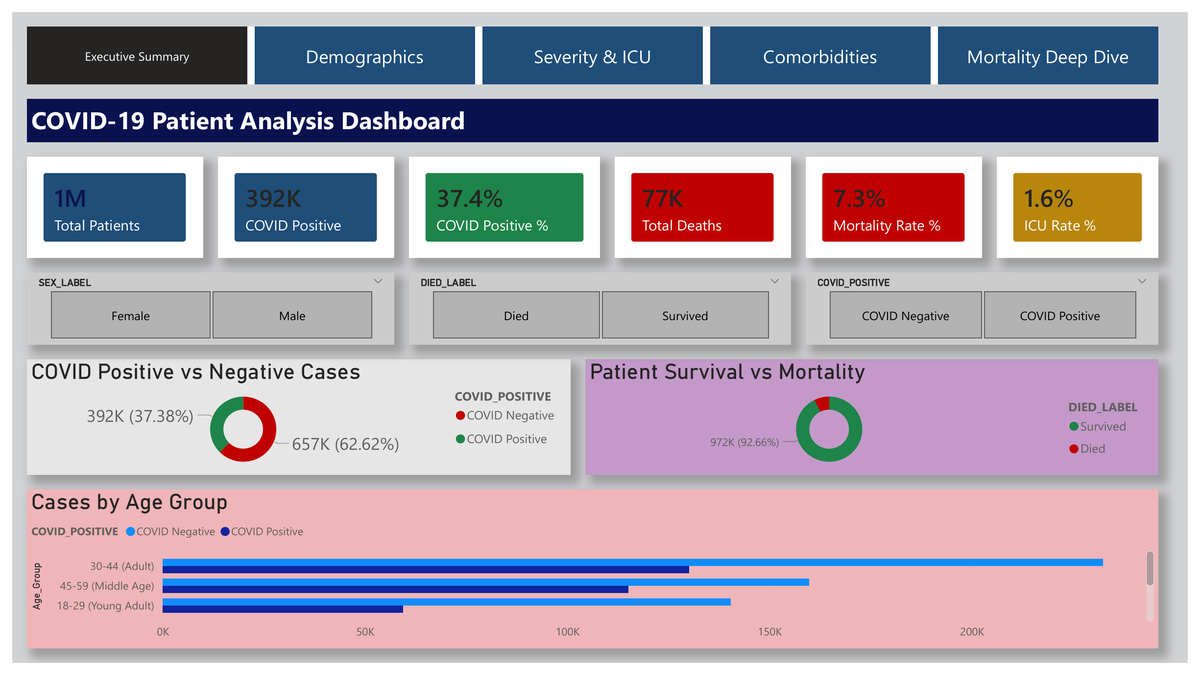

What the dashboard file says about the page in this screenshot:
{"tool":"powerbi","page":{"name":"Executive Summary","canvas":[1280,720],"ordinal":0},"visuals":[{"type":"textbox","box":[16,96,1232,48],"z":0},{"type":"cardVisual","fields":{"Data":["_Measures.Total Patients"]},"box":[16,160,192,112],"z":1000},{"type":"cardVisual","fields":{"Data":["_Measures.COVID Positive"]},"box":[224,160,192,112],"z":2000},{"type":"cardVisual","fields":{"Data":["_Measures.COVID Positive %"]},"box":[432,160,208,112],"z":3000},{"type":"cardVisual","fields":{"Data":["_Measures.ICU Rate %"]},"box":[1072,160,176,112],"z":4000},{"type":"cardVisual","fields":{"Data":["_Measures.Mortality Rate %"]},"box":[864,160,192,112],"z":5000},{"type":"cardVisual","fields":{"Data":["_Measures.Total Deaths"]},"box":[656,160,192,112],"z":6000},{"type":"donutChart","title":"COVID Positive vs Negative Cases","fields":{"Y":["_Measures.Total Patients"],"Category":["Covid Data.COVID_POSITIVE"]},"box":[16,384,592,128],"z":7000},{"type":"donutChart","title":"Patient Survival vs Mortality","fields":{"Category":["Covid Data.DIED_LABEL"],"Y":["_Measures.Total Patients"]},"box":[624,384,624,128],"z":8000},{"type":"clusteredBarChart","title":"Cases by Age Group","fields":{"Category":["Covid Data.Age_Group"],"Y":["_Measures.Total Patients"],"Series":["Covid Data.COVID_POSITIVE"]},"box":[16,528,1232,176],"z":9000},{"type":"slicer","fields":{"Values":["Covid Data.SEX_LABEL"]},"box":[16,288,400,80],"z":10000},{"type":"slicer","fields":{"Values":["Covid Data.DIED_LABEL"]},"box":[432,288,416,80],"z":11000},{"type":"slicer","fields":{"Values":["Covid Data.COVID_POSITIVE"]},"box":[864,288,384,80],"z":12000},{"type":"pageNavigator","box":[16,16,1232,64],"z":13000}]}

Visuals, with their boxes in screenshot pixels (x1, y1, x2, y2), scaled from the page's 1280x720 canvas onto the 1200x675 screenshot:
textbox: box(15, 90, 1170, 135)
cardVisual - _Measures.Total Patients: box(15, 150, 195, 255)
cardVisual - _Measures.COVID Positive: box(210, 150, 390, 255)
cardVisual - _Measures.COVID Positive %: box(405, 150, 600, 255)
cardVisual - _Measures.ICU Rate %: box(1005, 150, 1170, 255)
cardVisual - _Measures.Mortality Rate %: box(810, 150, 990, 255)
cardVisual - _Measures.Total Deaths: box(615, 150, 795, 255)
"COVID Positive vs Negative Cases" donutChart: box(15, 360, 570, 480)
"Patient Survival vs Mortality" donutChart: box(585, 360, 1170, 480)
"Cases by Age Group" clusteredBarChart: box(15, 495, 1170, 660)
slicer - Covid Data.SEX_LABEL: box(15, 270, 390, 345)
slicer - Covid Data.DIED_LABEL: box(405, 270, 795, 345)
slicer - Covid Data.COVID_POSITIVE: box(810, 270, 1170, 345)
pageNavigator: box(15, 15, 1170, 75)
